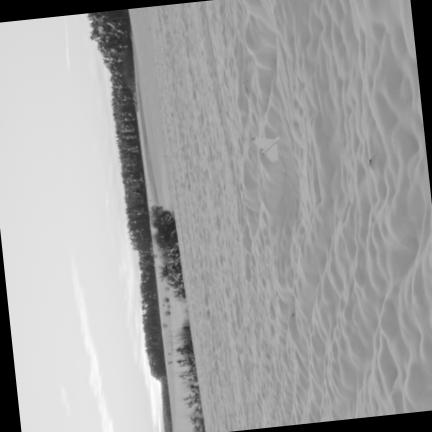Shahed: (251, 136, 280, 163)
